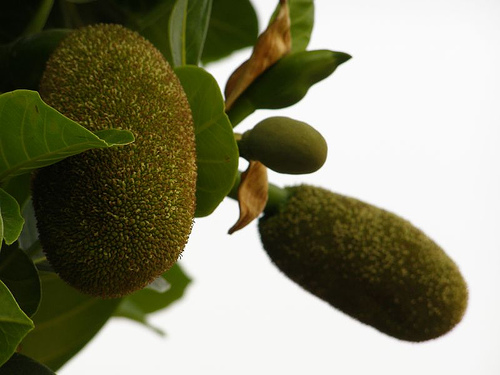jackfruit: (31, 23, 197, 302), (257, 184, 467, 341), (235, 116, 329, 176)
